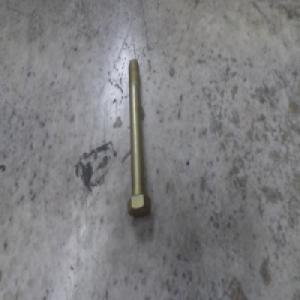Bolt: (125, 56, 151, 212)
